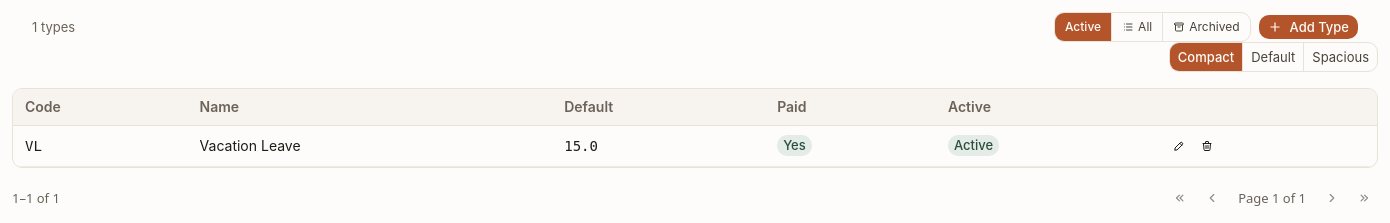
leave type archive actions › does not show active rows as archived while archived results are loading
Expected: the button named "Archive Vacation Leave" is shown, [1195,134,1219,158]
Click the radio button with aria-label "Show archived records only" at (1206, 27), box [1163,13,1250,41]
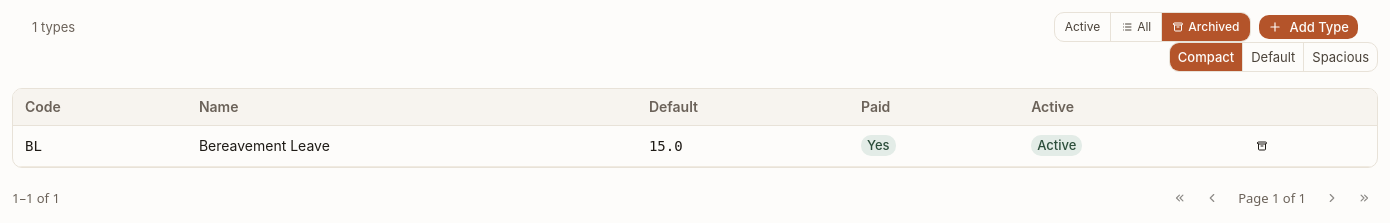
Now the button named "Restore Bereavement Leave" is shown, box [1250,134,1274,158]
